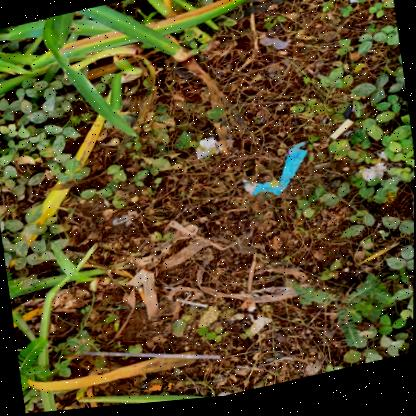Paper: (242, 146, 306, 199)
Plastic: (79, 352, 220, 362), (195, 140, 222, 162), (168, 223, 197, 238), (257, 40, 290, 53)
Waste: (126, 270, 158, 321), (353, 168, 386, 187), (328, 123, 353, 144), (112, 211, 137, 226), (175, 301, 207, 310), (135, 288, 143, 306), (145, 385, 160, 392), (215, 395, 232, 401), (349, 1, 355, 8)
